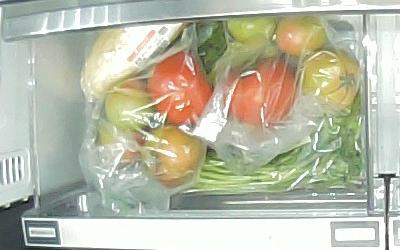tomato_vinyl: (223, 57, 297, 127), (148, 51, 214, 127), (143, 126, 204, 188), (301, 48, 361, 108), (106, 77, 154, 130), (276, 16, 328, 57), (226, 15, 277, 47)
